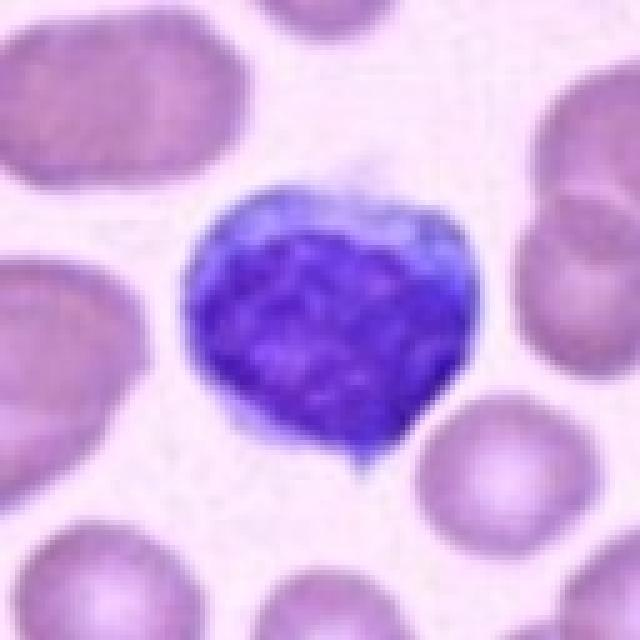lympho: (167, 172, 491, 474)
